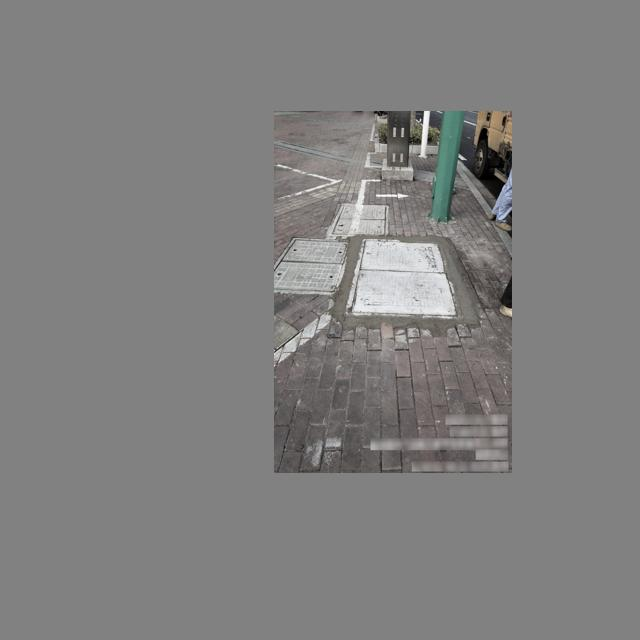good: (345, 238, 464, 318), (274, 236, 352, 295), (328, 202, 390, 238)
